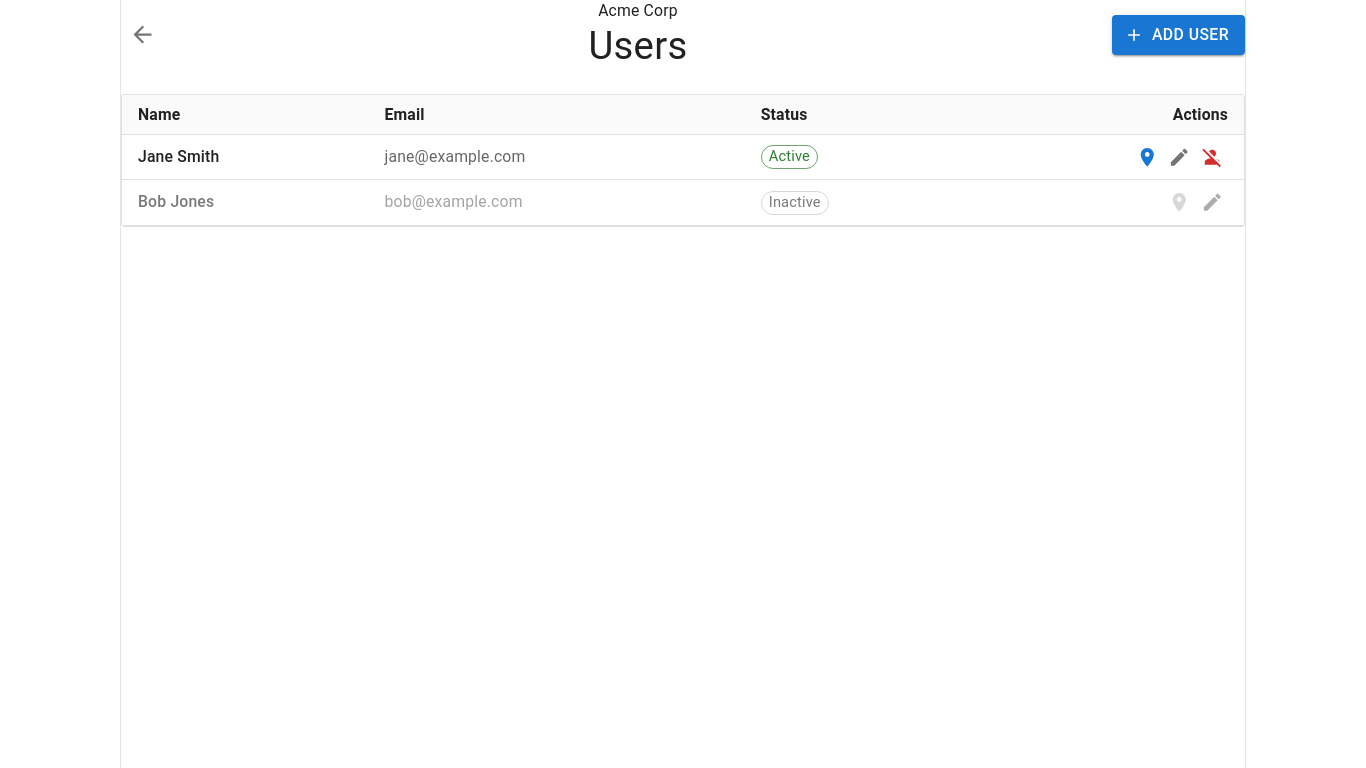
Test: UsersPage › opens the edit dialog pre-filled with user data
The image size is (1366, 768).
expect the text "Jane Smith" is shown: met, box [122,134,368,180]
Step 1. Click the button named "edit" in the row of "Smith" → (1179, 157), box [1163,141,1196,173]
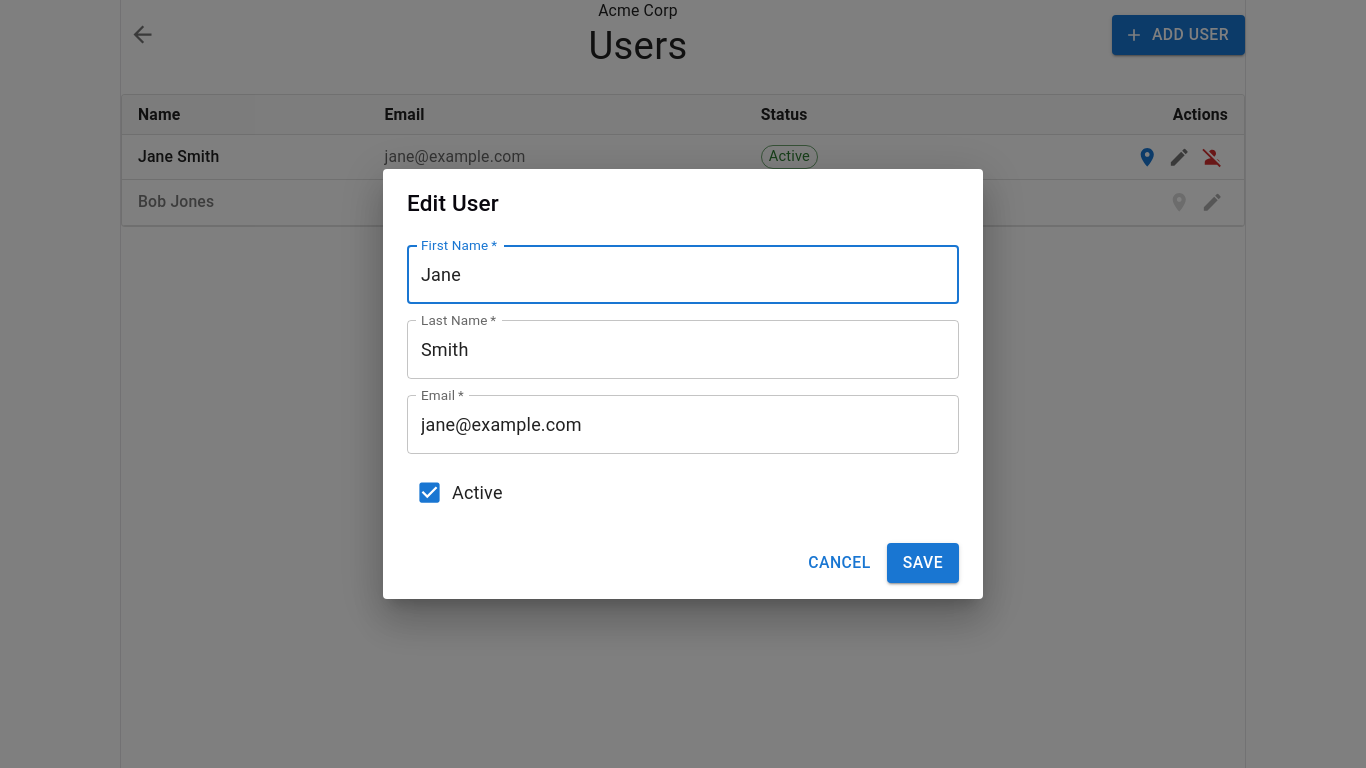
expect the heading "Edit User" is shown: met, box [407,190,499,216]
expect the field showing "Jane" is shown: met, box [407,245,959,304]
expect the field showing "jane@example.com" is shown: met, box [407,395,959,454]
